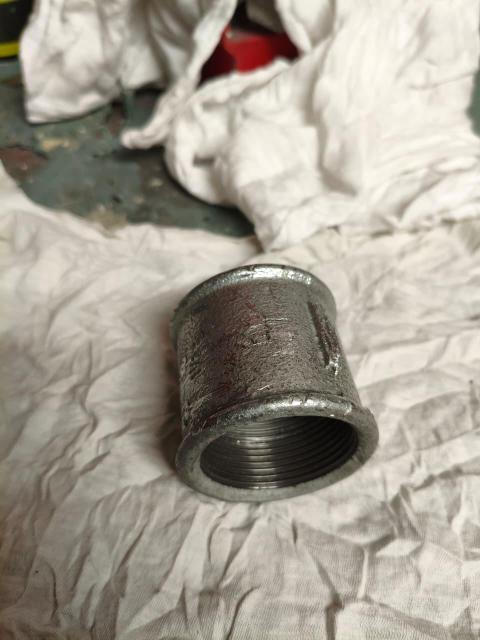Metal: (167, 265, 378, 495)
